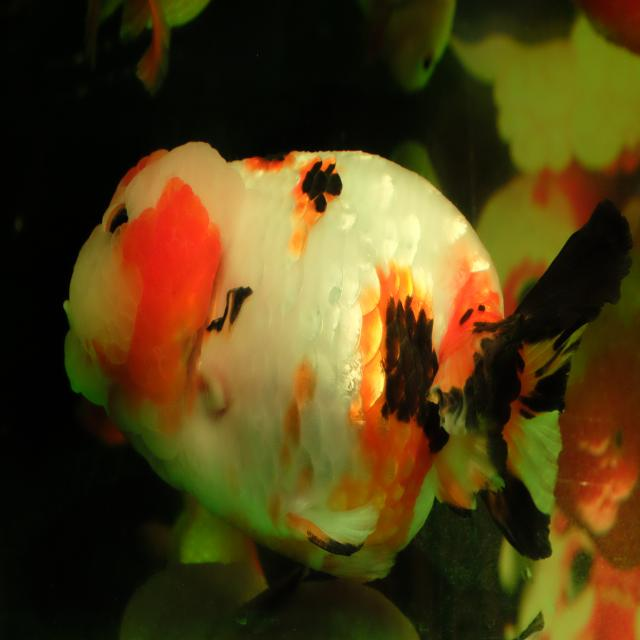Goldfish: (62, 136, 634, 588)
